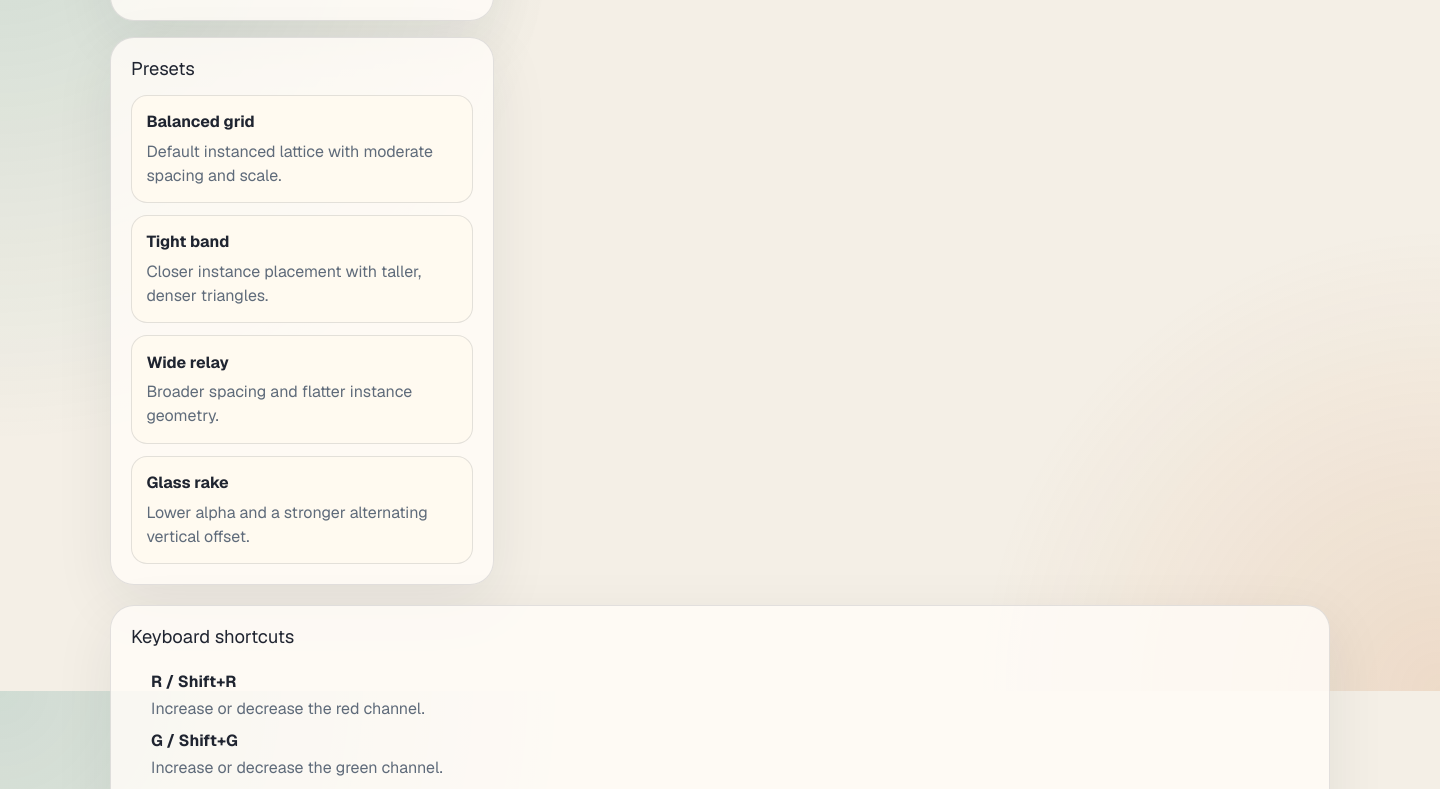
WebGpuInstancedLatticePageClient › applies presets and updates the summary without requiring a GPU runtime
(page scrolled)
Click the button "Wide relay Broader spacing and flatter instance geometry." at {"x": 302, "y": 390}, box [131,336,473,444]
(page scrolled)
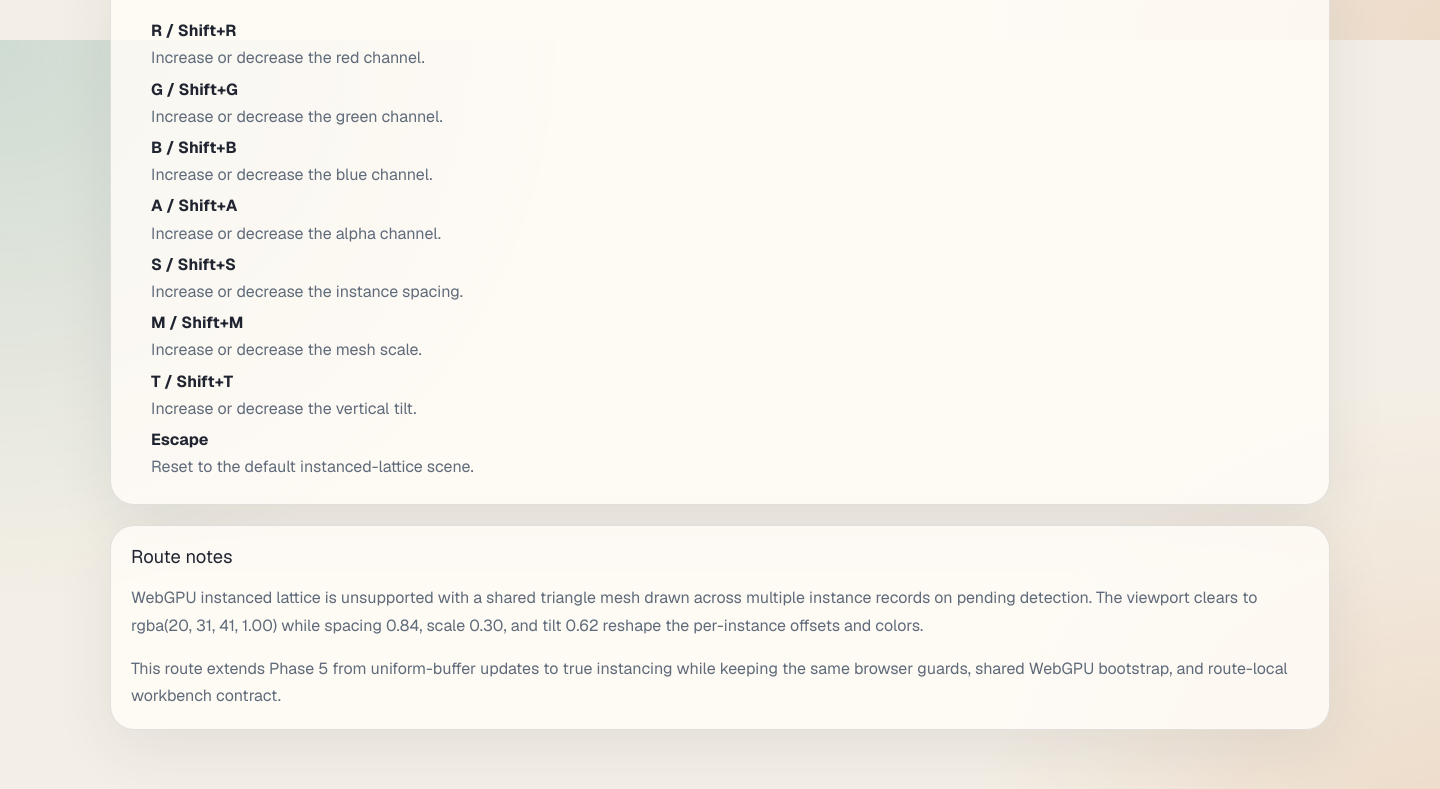
Expected: the text "spacing 0.84, scale 0.30, and tilt 0.62" is shown, [131,587,1257,636]
